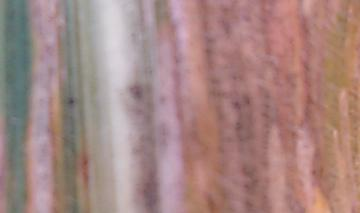tarspot: (127, 84, 144, 100), (230, 99, 242, 110), (243, 91, 251, 105), (233, 120, 241, 132), (66, 96, 75, 106), (311, 168, 318, 177)
